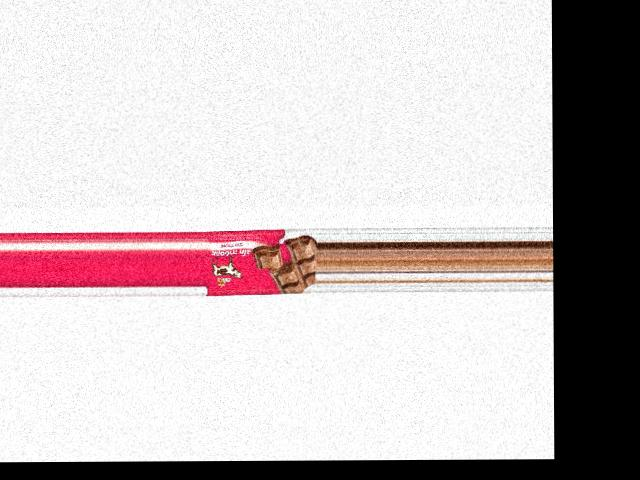chocolate: (204, 228, 316, 293)
